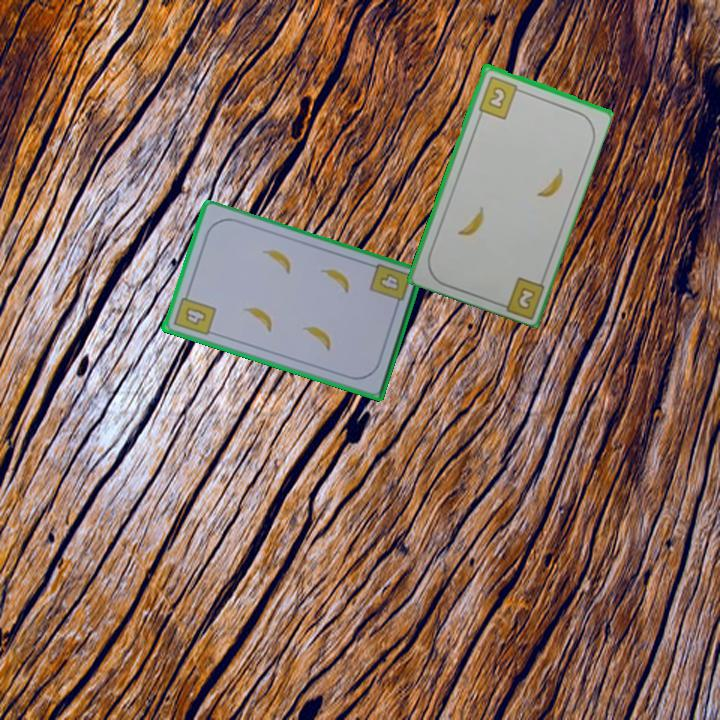2b: (475, 72, 525, 121), (513, 283, 538, 312)
4b: (169, 288, 218, 338), (375, 270, 402, 294)
